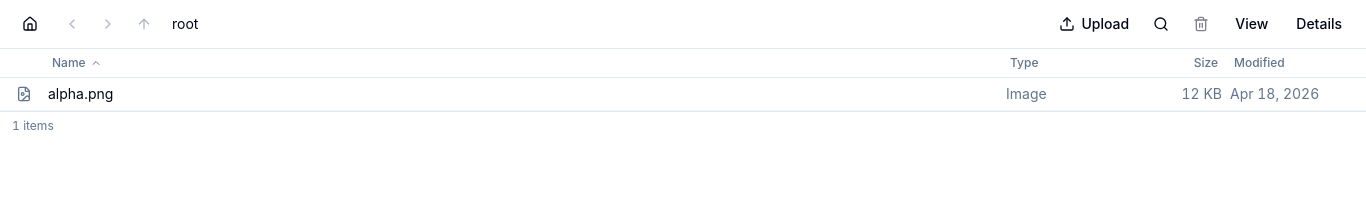
Test: FileExplorer composite (Subagent P) › right-click on a rendered row opens the 6-item FileContextMenu
The image size is (1366, 223).
Right-click the row with test id "explorer-row" at (683, 94), box [0, 78, 1365, 111]
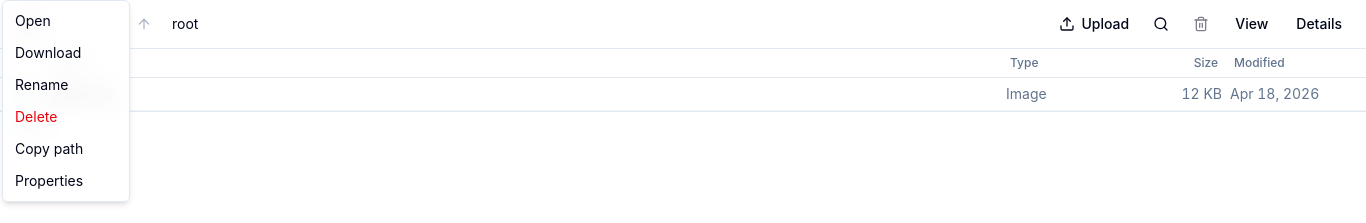
Now the menu is shown, box [2, 0, 130, 202]
Now the menu items read "Open", "Download", "Rename", "Delete", "Copy path", "Properties", in this order, box [15, 12, 51, 29]; [15, 44, 81, 61]; [15, 76, 68, 93]; [15, 108, 57, 125]; [15, 140, 83, 157]; [15, 172, 83, 189]
